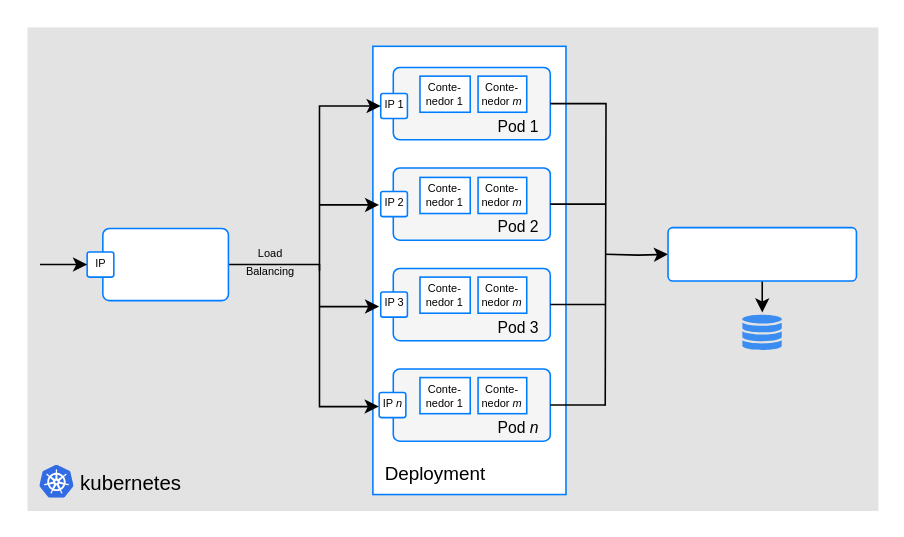
The diagram is 904 pixels wide and 537 high, and some of its shapes have lost their labels. The centre of each missing label's shape, as x and y in pixels:
"PersistentVolume" belongs at (761,253).
"Service" belongs at (164,264).
